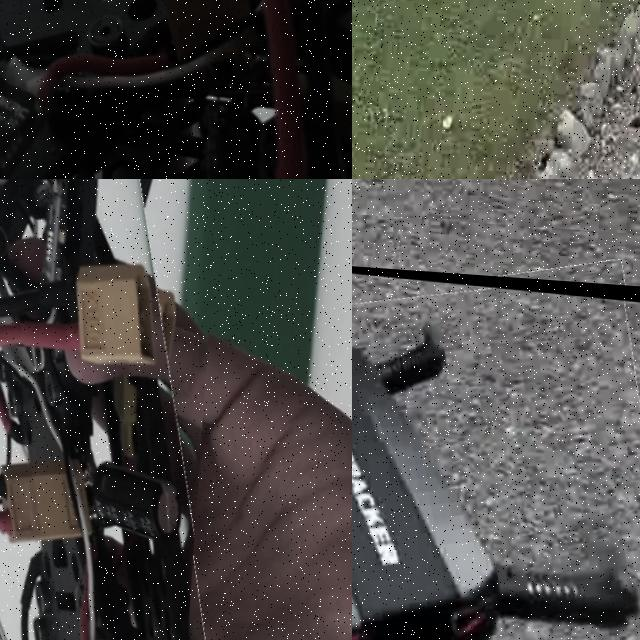drone: (352, 248, 640, 640), (0, 179, 224, 640), (0, 0, 352, 179)
